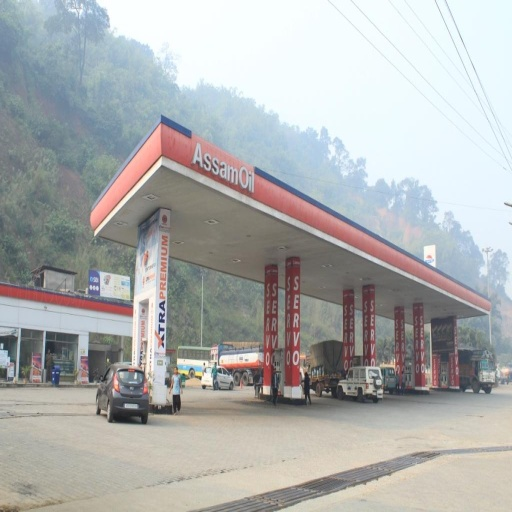roof: (88, 112, 490, 328)
